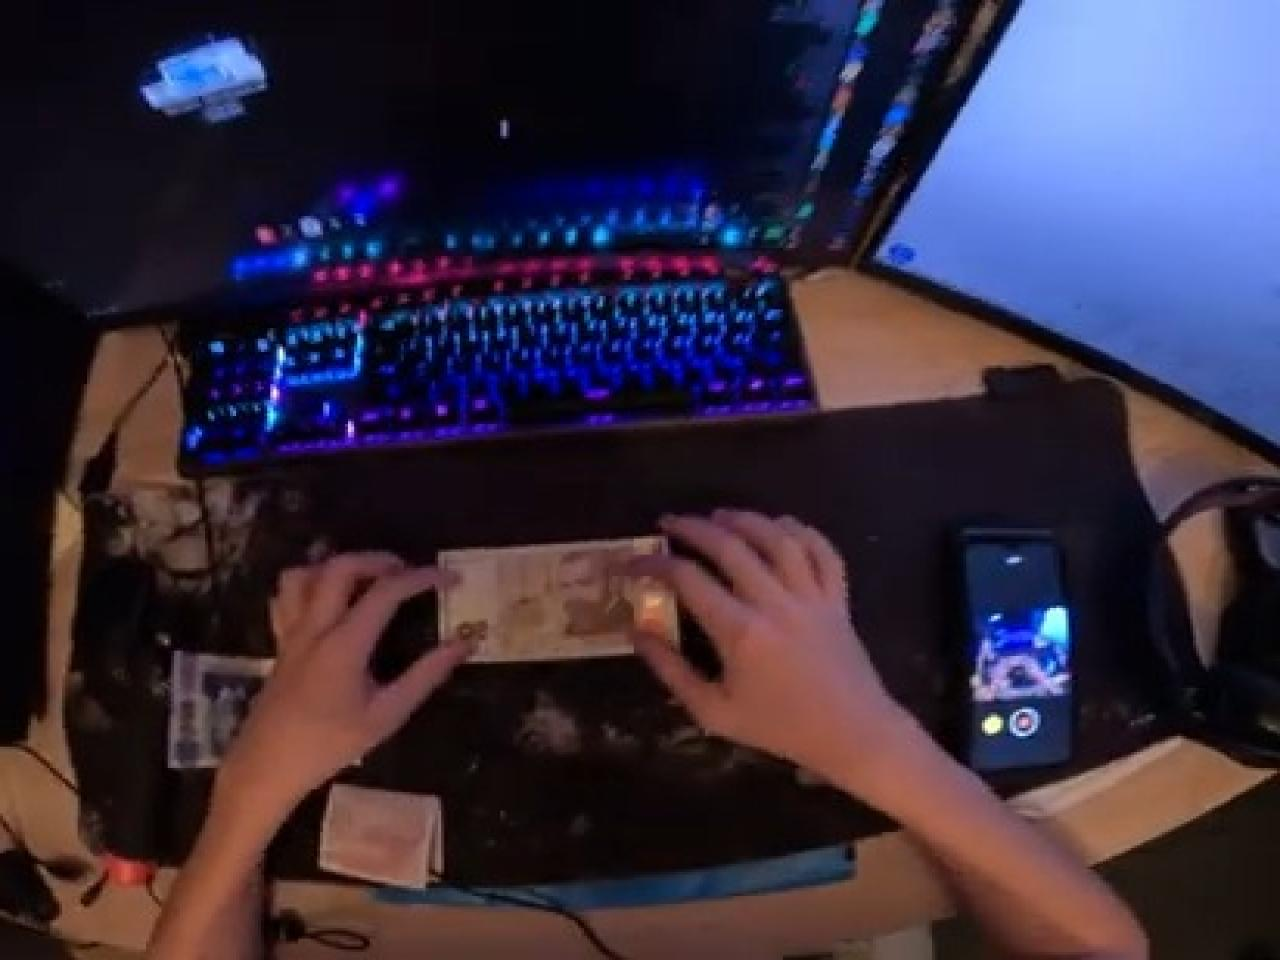50leva: (441, 536, 680, 670)
